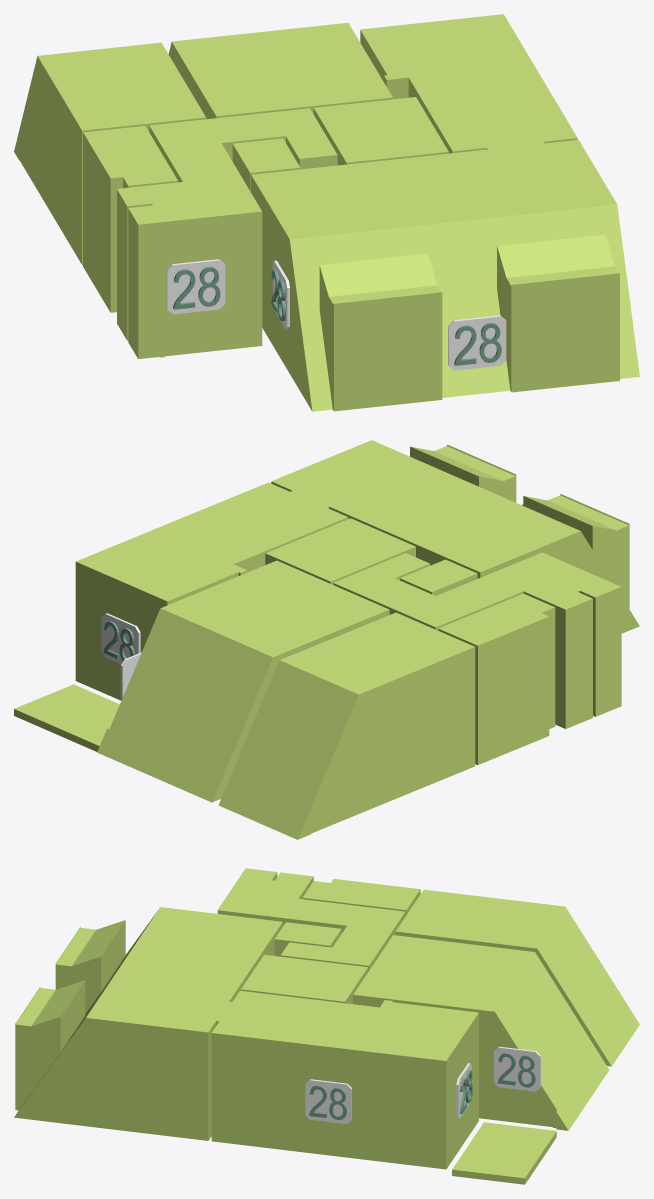
3 views of the same model, one above another, from view 1: azimuth 30°, elevation 25°; view 2: azimuth 150°, elevation 25°; view 3: azimuth 270°, elevation 25° (orthographic). The views are drawn at different scales.
Parts seen in each view (by area): view 1: g_0, g_5, g_1, g_3, g_2, g_7, g_4, g_11, g_23, g_6; view 2: g_3, g_2, g_0, g_1, g_5, g_7, g_4, g_8, g_6, g_20; view 3: g_0, g_1, g_2, g_3, g_5, g_8, g_4, g_7, g_14, g_17, g_6.
Part boxes in pixels (box(x1,y1,x2,y2)): g_0: box(251, 140, 639, 411); g_5: box(117, 108, 337, 358); g_1: box(360, 14, 577, 153); g_3: box(14, 42, 206, 264); g_2: box(168, 22, 392, 119); g_7: box(83, 126, 177, 312); g_4: box(313, 97, 448, 165); g_11: box(166, 259, 225, 314); g_23: box(448, 315, 506, 370); g_6: box(232, 138, 300, 191); g_3: box(218, 612, 475, 839); g_2: box(97, 560, 389, 802); g_0: box(271, 440, 639, 633); g_1: box(75, 482, 348, 700); g_5: box(333, 552, 621, 728); g_7: box(438, 593, 555, 764); g_4: box(265, 518, 415, 584); g_8: box(14, 684, 119, 751); g_6: box(400, 559, 477, 595); g_20: box(101, 613, 140, 664); g_0: box(14, 907, 282, 1140); g_1: box(211, 990, 478, 1169); g_2: box(353, 935, 609, 1130); g_3: box(395, 889, 639, 1066); g_5: box(217, 868, 405, 971); g_8: box(452, 1122, 556, 1184); g_4: box(241, 954, 368, 1004); g_7: box(302, 878, 420, 915); g_14: box(305, 1079, 351, 1124); g_17: box(494, 1046, 540, 1091); g_6: box(274, 922, 341, 956).
Bounding box in the file's own units: 10.12 × 2.71 × 13.31.
